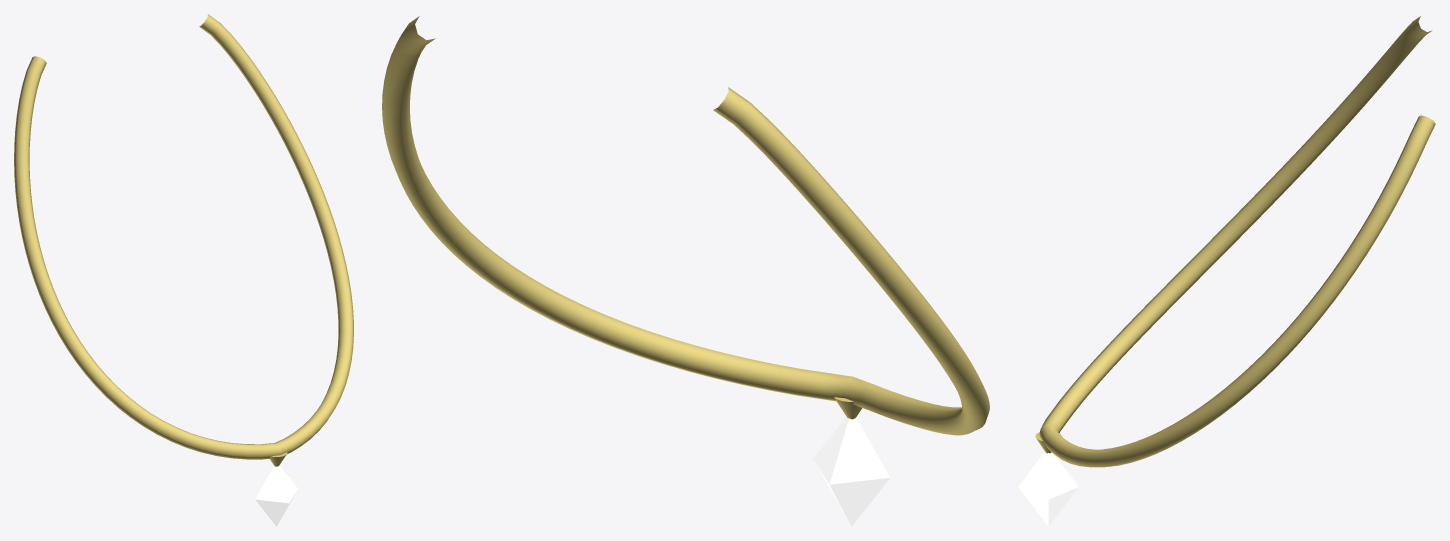
The model's file is shyn-prod-5.glb.
3 views of the same model, side by side, from view 1: azimuth 30°, elevation 25°; view 2: azimuth 150°, elevation 25°; view 3: azimuth 270°, elevation 25° (orthographic). The views are drawn at different scales.
Visible parts, largest first — view 1: part (×2); view 2: part (×2); view 3: part (×2).
Part boxes in pixels (x1,y1,x2,y2): part (×2): [14, 14, 353, 526]; part (×2): [382, 16, 989, 526]; part (×2): [1018, 16, 1435, 526].
Bounding box in the file's own units: 0.4345 × 0.5358 × 0.4394.
